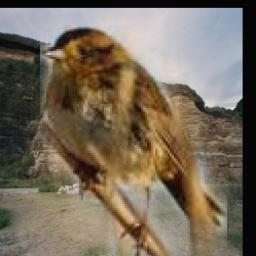Sparrow: (40, 26, 227, 256)
